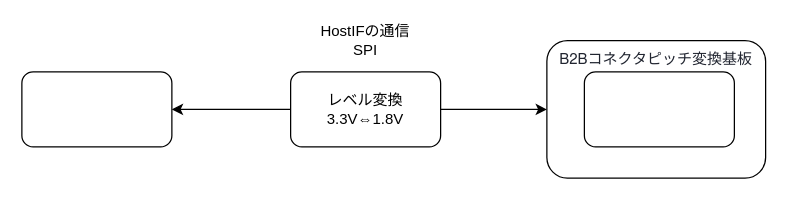
Some shapes in this 788 by 200 pixel diagram are drawn without their labels. Each missing label, with the centre of its shape:
HostIF提供側 Spresense（Spresense SDK）: the point at 658,109
ホスト STM32 NUCLEO-F446RE: the point at 96,109
